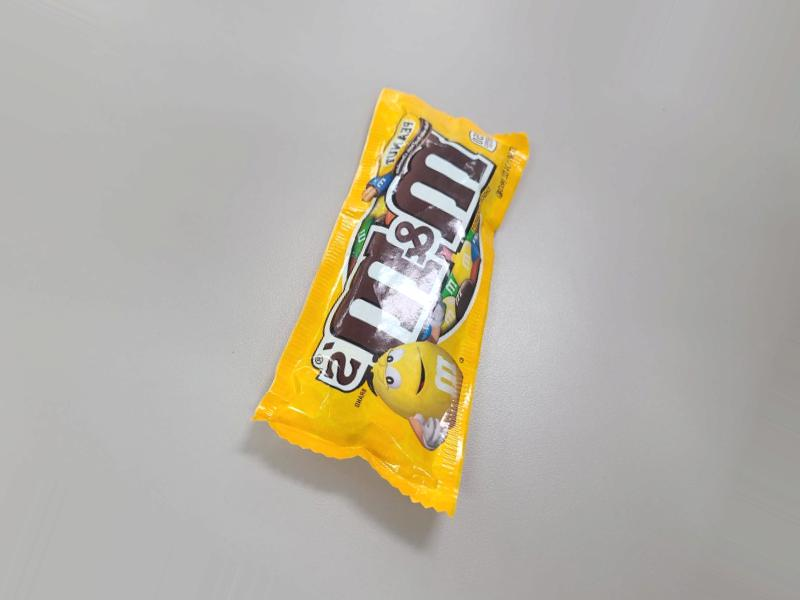m&m: (281, 152, 516, 514)
